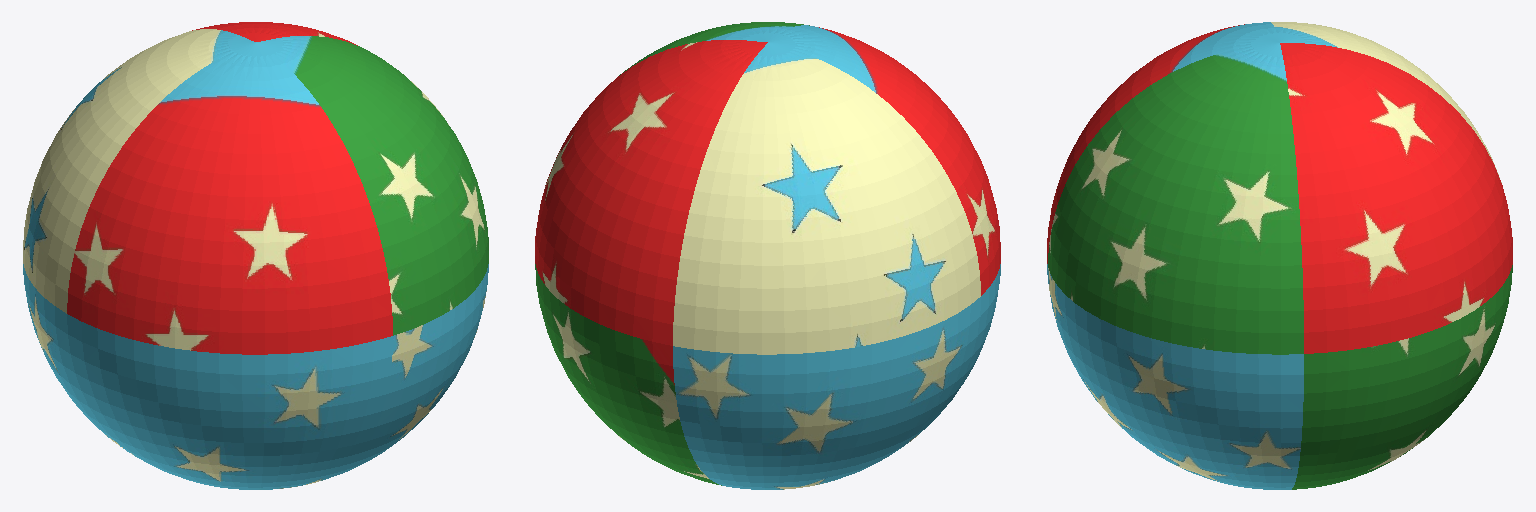
3 views of the same model, side by side, from view 1: azimuth 30°, elevation 25°; view 2: azimuth 150°, elevation 25°; view 3: azimuth 270°, elevation 25° (orthographic).
Parts seen in each view (by area): view 1: ball; view 2: ball; view 3: ball.
Part boxes in pixels (x1,y1,x2,y2): ball: (23, 22, 488, 489); ball: (535, 22, 1000, 489); ball: (1047, 22, 1512, 489).
Bounding box in the file's own units: 2.22 × 2.24 × 2.22.
1 materials, 1 textured.